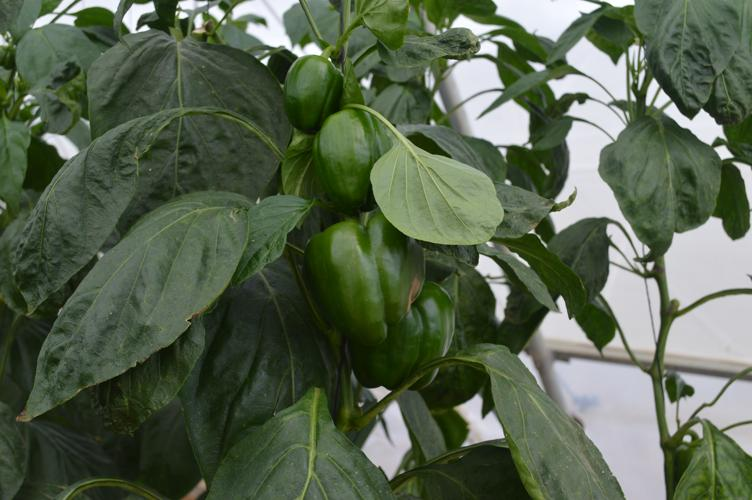BellPepper: (304, 215, 426, 343), (349, 282, 457, 390), (311, 108, 385, 213), (283, 55, 344, 135)
